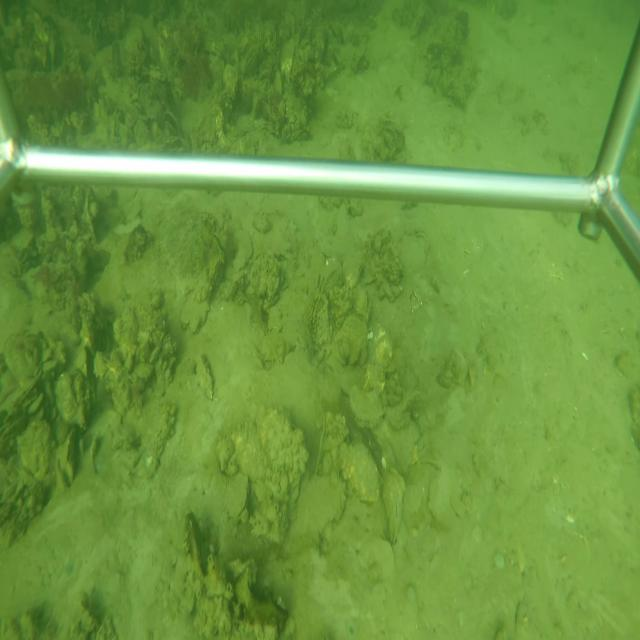Oyster-Closed: (381, 468, 406, 548), (55, 371, 87, 430), (347, 384, 385, 430), (180, 291, 212, 334), (225, 473, 250, 523), (58, 428, 77, 484), (195, 352, 213, 401), (80, 313, 96, 356), (347, 253, 364, 288)
Oyster-Indeterminate: (281, 468, 349, 553), (340, 441, 382, 504), (250, 253, 281, 311), (233, 229, 254, 272)
Oyster-Open: (309, 294, 332, 348), (353, 289, 373, 327), (212, 231, 227, 264), (163, 108, 182, 134)
